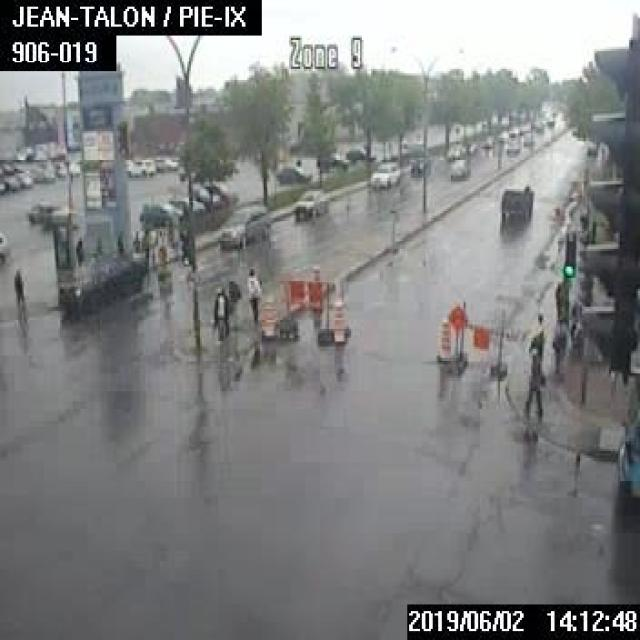construction: (273, 269, 345, 344), (447, 299, 509, 376), (436, 318, 451, 362), (259, 296, 274, 334), (332, 299, 344, 343)
pedestrian: (522, 348, 544, 416), (528, 311, 544, 381), (243, 264, 260, 325), (210, 286, 227, 338), (550, 319, 566, 373), (12, 264, 26, 316), (227, 278, 240, 330), (568, 299, 580, 347), (72, 233, 84, 269), (554, 281, 562, 319), (115, 227, 124, 260), (140, 226, 148, 252), (131, 229, 138, 251)
vehicle: (214, 200, 268, 246), (499, 182, 533, 218), (25, 198, 70, 224), (293, 187, 325, 218), (139, 201, 181, 224), (202, 182, 234, 206), (369, 161, 398, 186), (167, 196, 202, 216), (189, 186, 219, 209), (273, 165, 310, 183), (314, 153, 348, 171), (28, 164, 54, 182), (344, 145, 374, 160), (128, 158, 154, 174), (409, 156, 429, 176), (448, 156, 468, 176), (0, 168, 18, 190), (12, 169, 32, 186), (153, 156, 176, 170), (445, 143, 464, 157), (0, 230, 7, 265), (52, 159, 66, 176), (505, 138, 520, 151), (463, 140, 476, 152), (521, 131, 533, 144), (66, 162, 78, 174), (481, 133, 492, 145), (543, 114, 554, 124), (496, 129, 506, 139), (534, 120, 543, 131), (507, 126, 516, 134), (0, 179, 5, 193)
